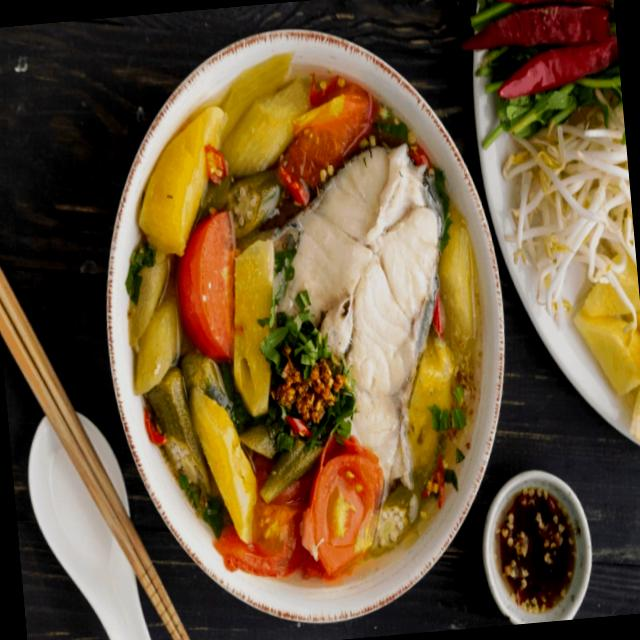canh chua: (128, 54, 481, 588)
